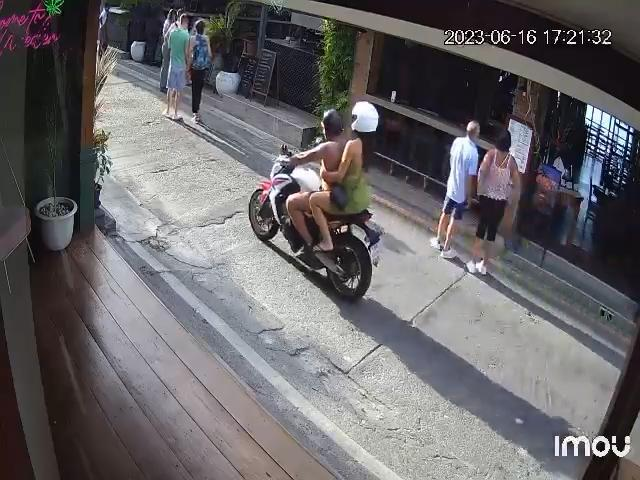person: (474, 129, 518, 278), (434, 117, 480, 259), (338, 100, 379, 218), (190, 19, 212, 126), (170, 14, 190, 123), (318, 106, 342, 194)
